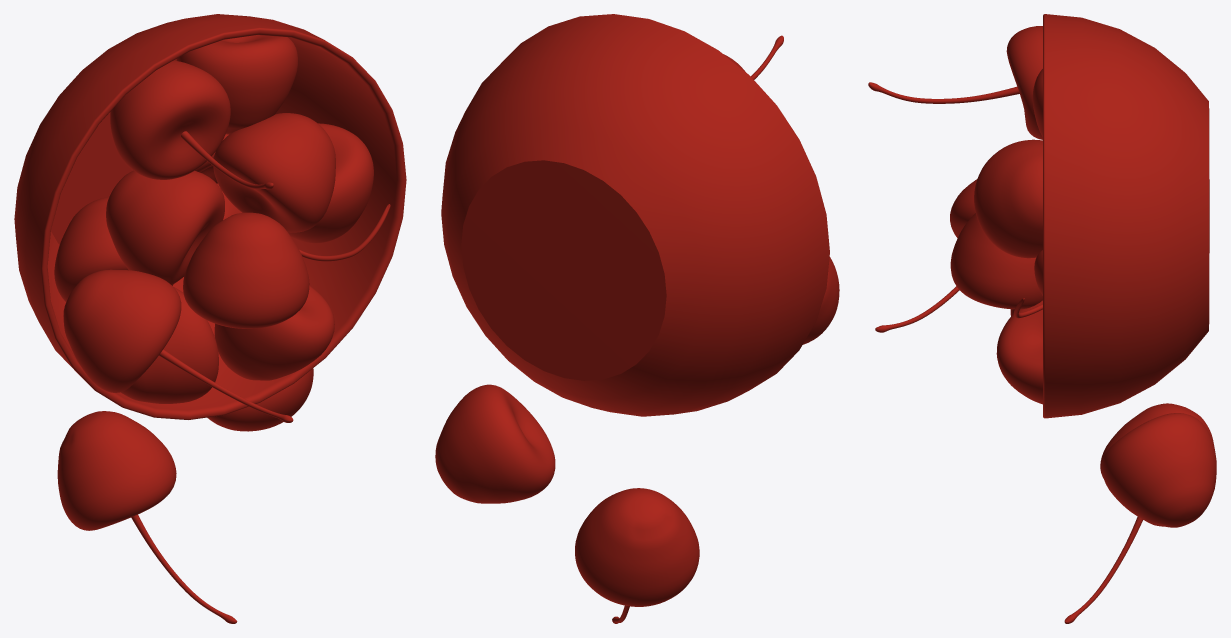
File: czeresnie.obj
3 views of the same model, side by side, from view 1: azimuth 30°, elevation 25°; view 2: azimuth 150°, elevation 25°; view 3: azimuth 270°, elevation 25° (orthographic). The views are drawn at different scales.
Visible parts, largest first — view 1: Sphere002, Sphere019, Sphere005, Sphere001, Sphere018, Sphere003, Sphere015, Sphere013, Sphere016, Sphere012, Sphere017, Sphere011 (+5 smaller); view 2: Sphere002, Sphere005, Sphere014, Sphere001; view 3: Sphere002, Sphere014, Sphere018, Sphere019, Sphere016, Sphere003, Sphere005, Line002, Sphere001, Line004, Line001, Sphere013.
Boxes of the visible parts, box(x1,y1,x2,y2) form: Sphere002: box(14, 14, 406, 419); Sphere019: box(183, 212, 309, 328); Sphere005: box(57, 411, 176, 530); Sphere001: box(63, 269, 181, 392); Sphere018: box(213, 113, 335, 232); Sphere003: box(110, 60, 230, 179); Sphere015: box(106, 170, 224, 284); Sphere013: box(176, 35, 297, 134); Sphere016: box(214, 285, 334, 380); Sphere012: box(121, 287, 218, 403); Sphere017: box(288, 123, 373, 243); Sphere011: box(54, 197, 173, 301); Sphere002: box(441, 14, 829, 416); Sphere005: box(575, 488, 699, 606); Sphere014: box(435, 384, 555, 503); Sphere001: box(803, 257, 839, 344); Sphere002: box(1043, 14, 1209, 418); Sphere014: box(1101, 413, 1216, 527); Sphere018: box(974, 139, 1042, 258); Sphere019: box(950, 213, 1042, 309); Sphere016: box(996, 300, 1042, 404); Sphere003: box(1006, 26, 1042, 139); Sphere005: box(1100, 403, 1216, 495); Line002: box(868, 82, 1019, 103); Sphere001: box(950, 179, 977, 237); Line004: box(1064, 516, 1142, 623); Line001: box(875, 286, 959, 332); Sphere013: box(1032, 69, 1042, 137).
Bounding box in the file's own units: 50.73 × 80.3 × 43.68.
